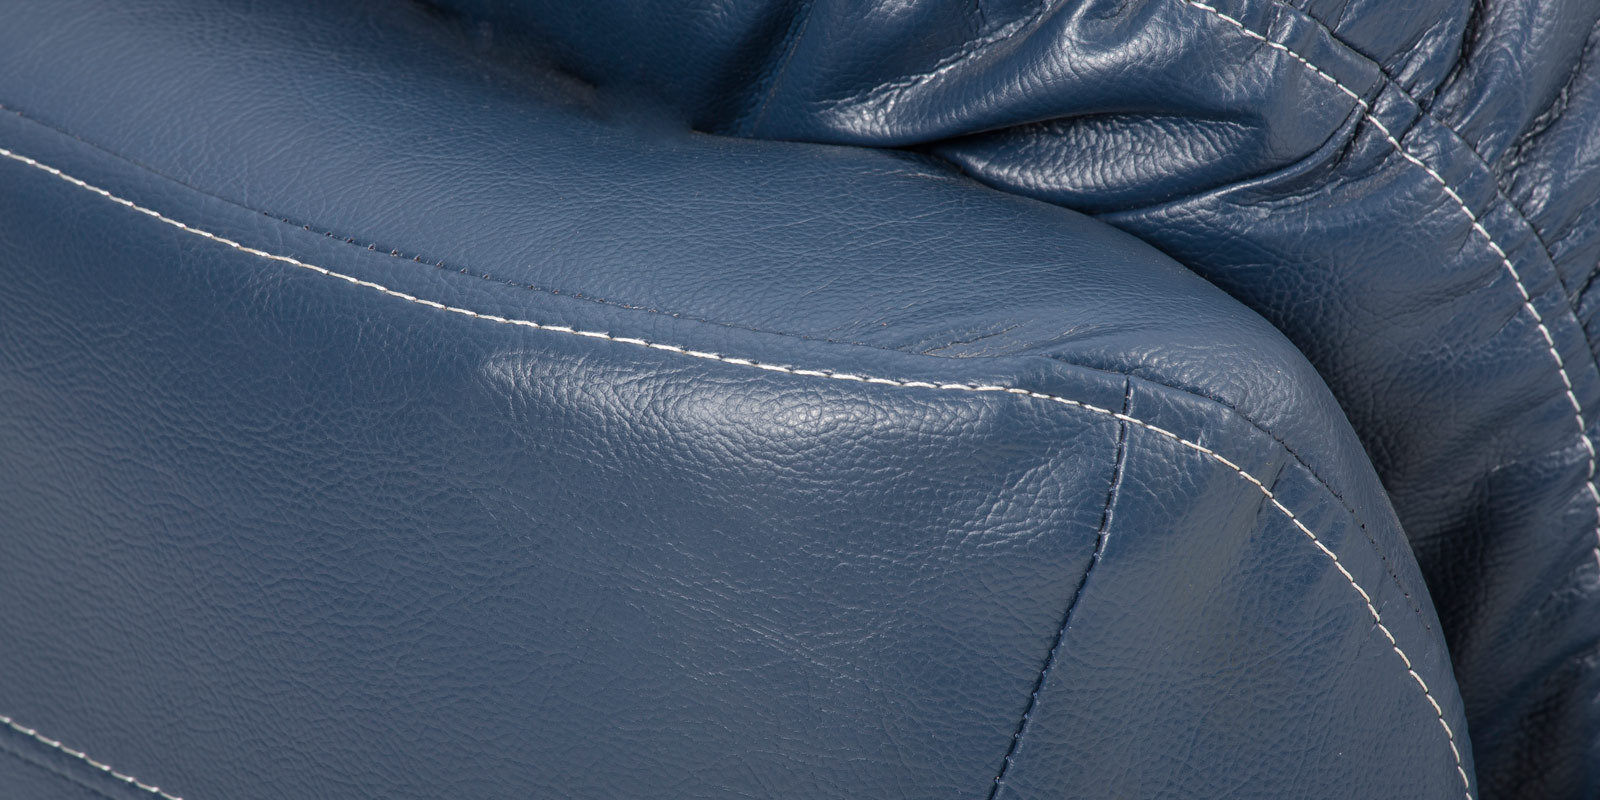Glassgow Heaven Three Seater Sofa with Throw Cushions in Blue Colour by Urban Li: (7, 3, 1588, 800)
